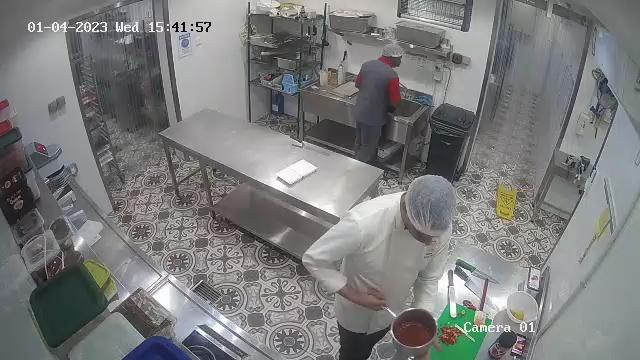no_apron: (336, 205, 430, 330)
